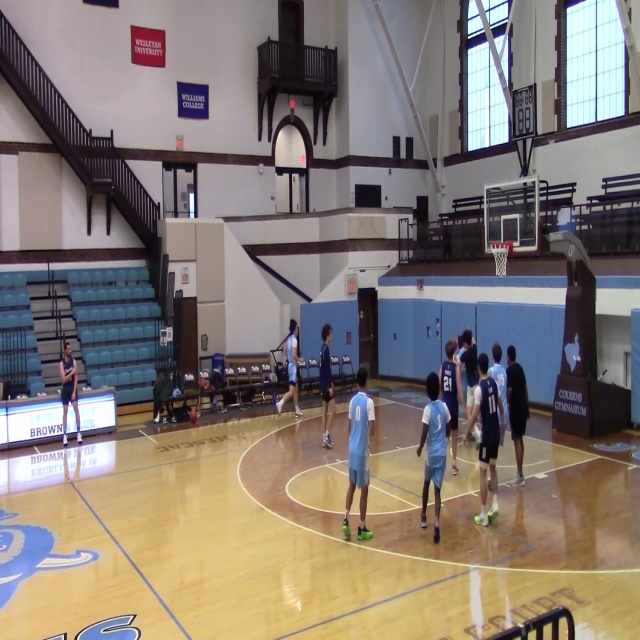Basketball: (289, 98, 296, 109)
